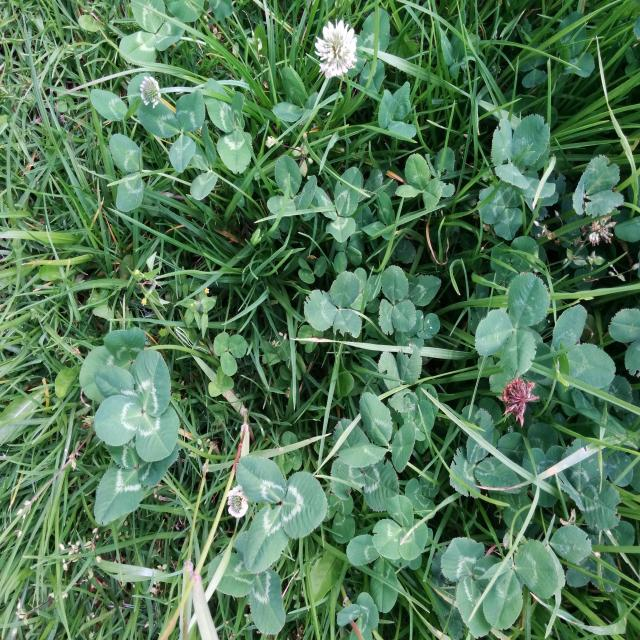Four Leaf Clover: (93, 350, 180, 461)
